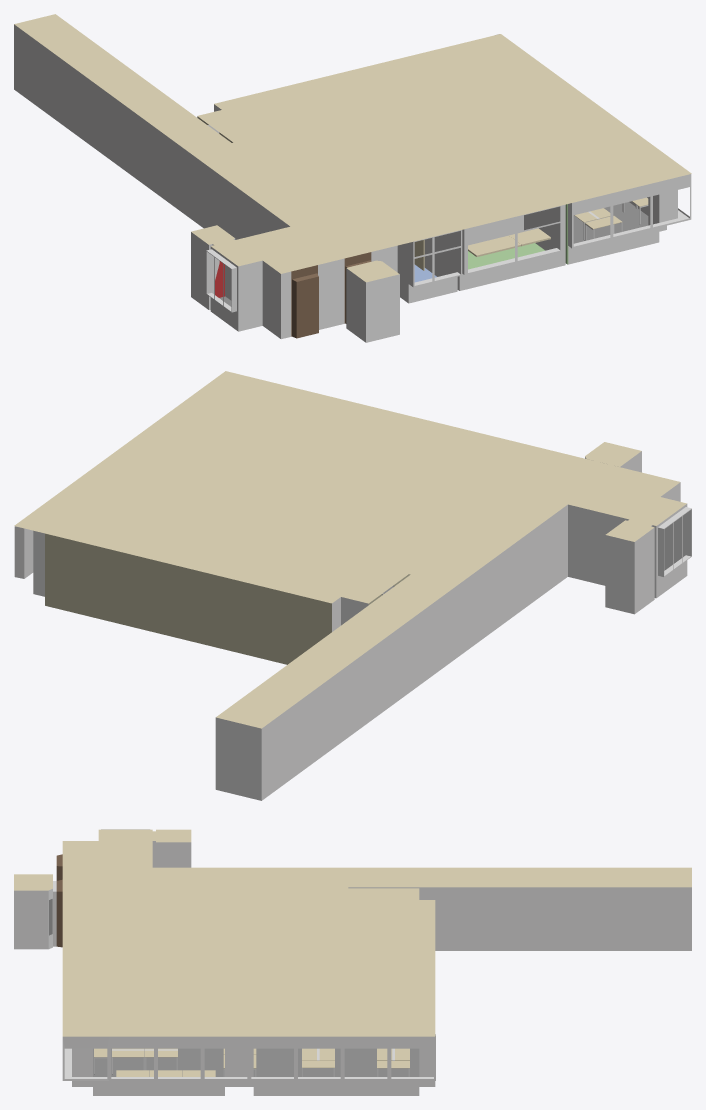
File: adino.gltf
3 views of the same model, one above another, from view 1: azimuth 30°, elevation 25°; view 2: azimuth 150°, elevation 25°; view 3: azimuth 270°, elevation 25° (orthographic). The views are drawn at different scales.
Parts seen in each view (by area): view 1: 天井, 建物, 立方体.010; view 2: 天井, 建物; view 3: 天井, 建物, 立方体.013, 立方体.012, 立方体.007.
Boxes of the visible parts, x1,y1,x2,y2 form: 天井: (14, 14, 691, 282); 建物: (14, 24, 691, 342); 立方体.010: (468, 228, 550, 256); 天井: (14, 371, 686, 728); 建物: (14, 451, 691, 800); 天井: (14, 829, 691, 1036); 建物: (14, 829, 691, 1095); 立方体.013: (112, 1048, 177, 1074); 立方体.012: (116, 1070, 215, 1076); 立方体.007: (302, 1048, 334, 1060).
Bounding box in the file's own units: 17.77 × 2.52 × 24.28.
